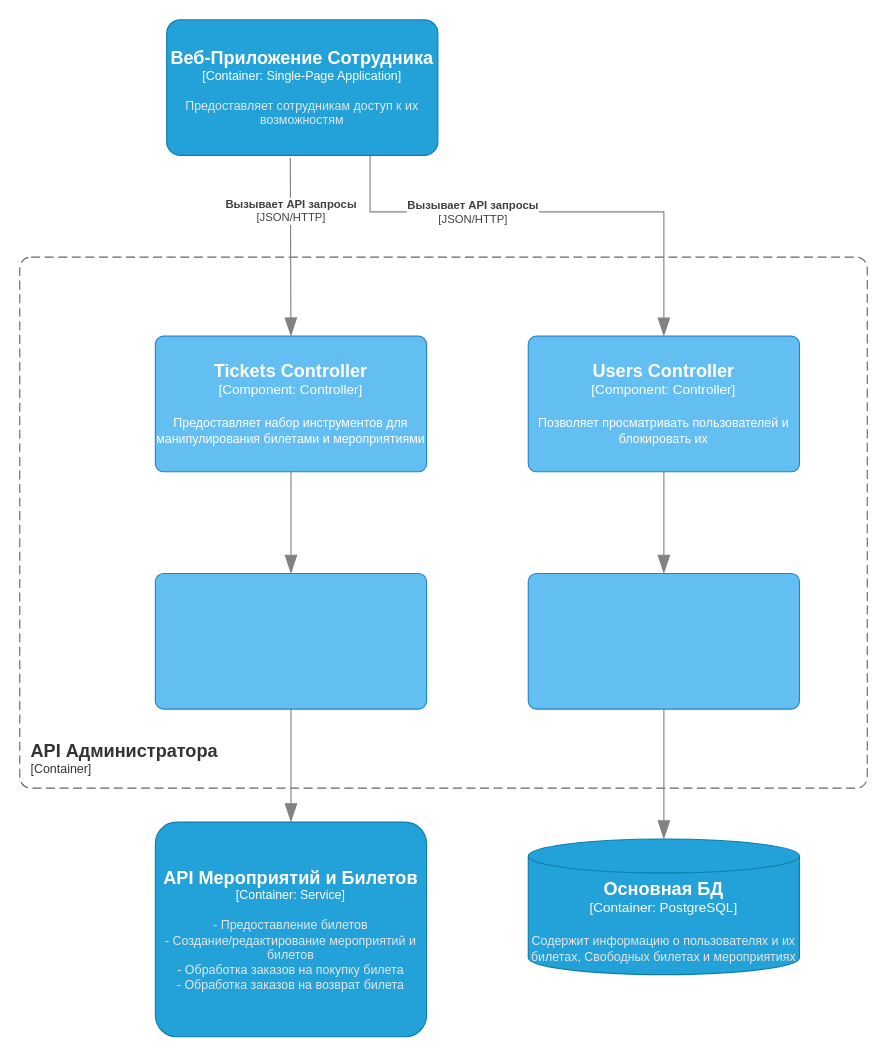
Some shapes in this 887 by 1057 pixel diagram are drawn without their labels. Each missing label, with the centre of its shape:
"Tickets Service [Component: Service] Связь с API Мероприятий и Билетов" goes at point (290, 640).
"Users Repository [Component: Repository] Связь с Основной БД" goes at point (663, 640).
